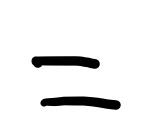eqv: (31, 56, 121, 110)
